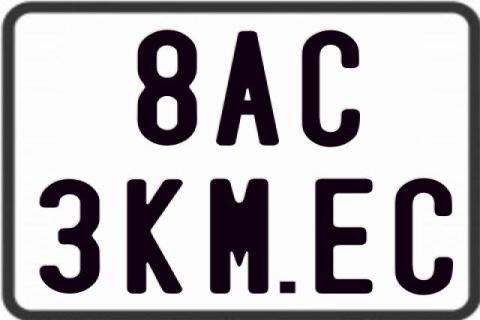0: (39, 178, 104, 296), (137, 28, 198, 145)
A: (213, 29, 282, 145)
C: (395, 179, 455, 297), (300, 29, 358, 149)
E: (314, 176, 376, 293)
K: (127, 177, 185, 295)
M: (208, 176, 266, 293)
